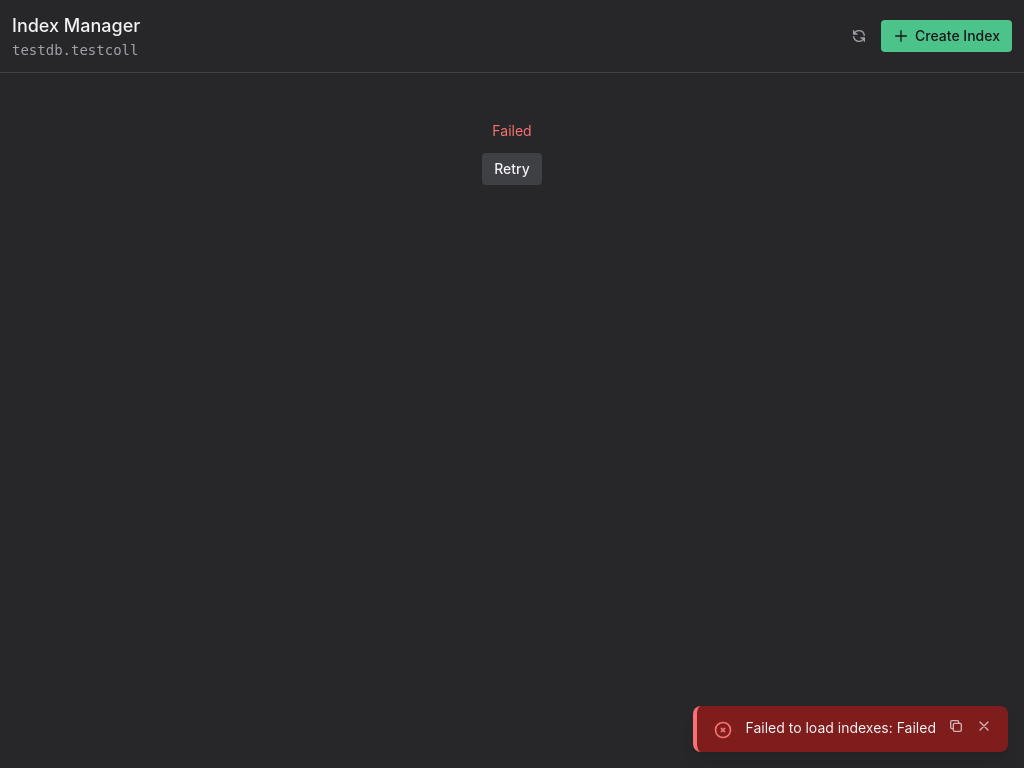
Test case: IndexView › error handling › retries loading when Retry button is clicked
Click the button "Retry": [512, 169] box [482, 153, 542, 185]
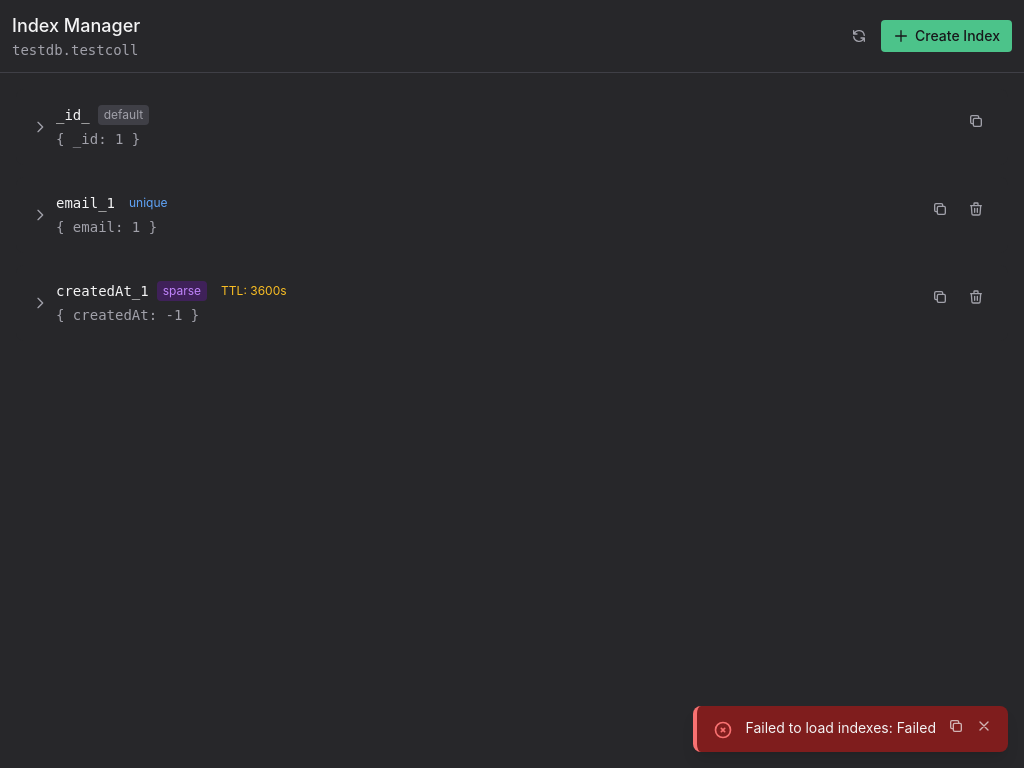
expect the text "_id_" is shown: met, box [56, 105, 90, 125]
